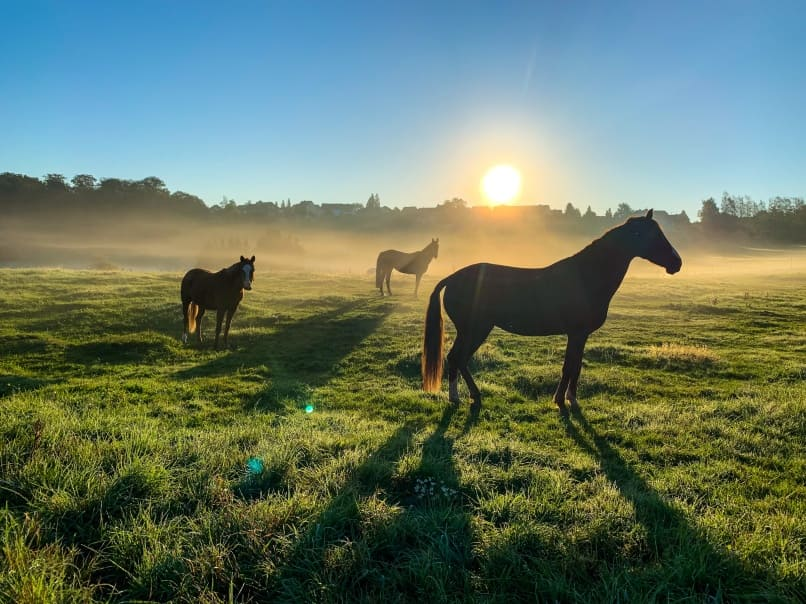horse: (421, 207, 683, 415), (178, 253, 256, 348), (373, 236, 441, 300)
